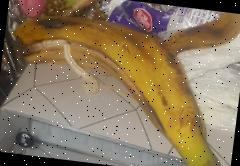organic: (14, 11, 235, 166)
